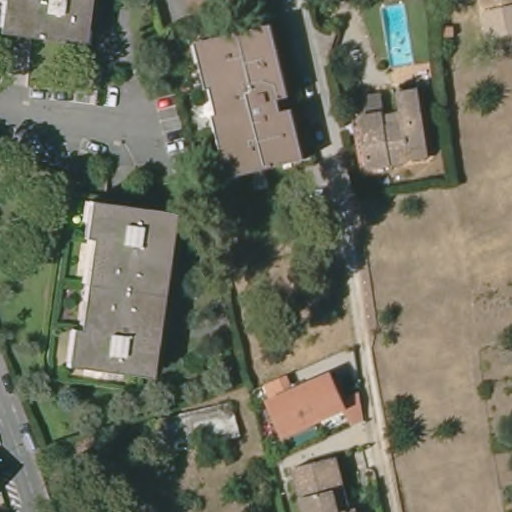pool: (378, 1, 421, 69)
